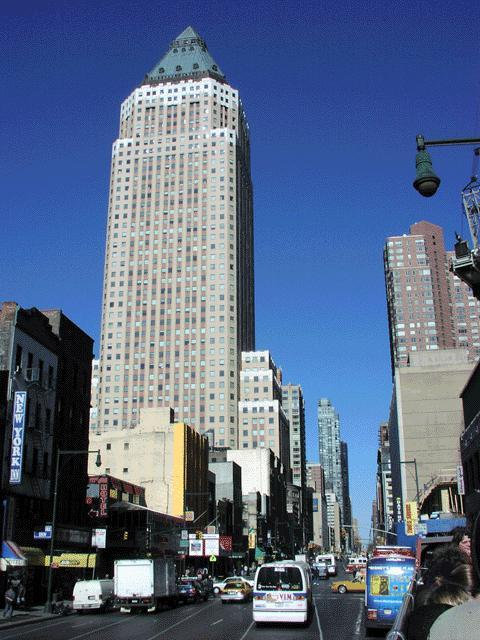building: (89, 20, 307, 566), (94, 405, 214, 581), (383, 349, 480, 545), (0, 294, 58, 603), (385, 218, 480, 379), (43, 308, 97, 542), (220, 443, 278, 555), (315, 394, 354, 556)
